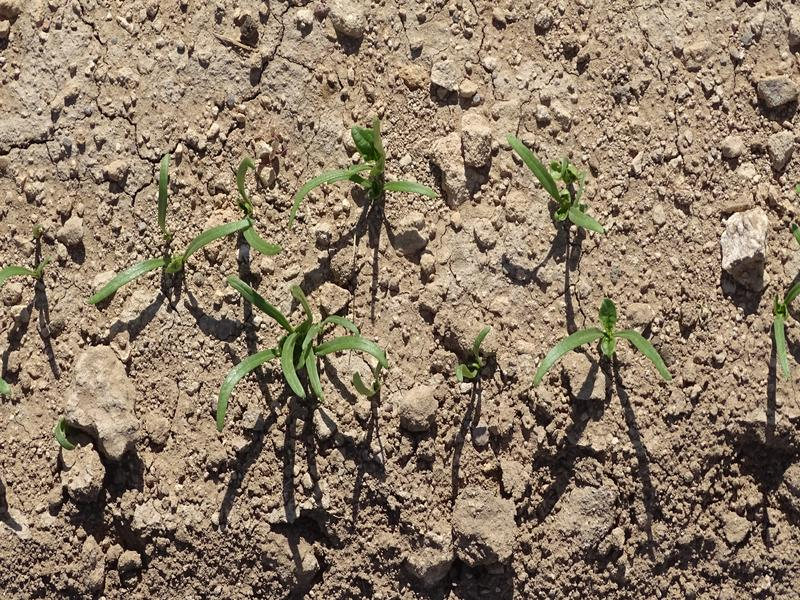Espinaca: (211, 272, 390, 414), (94, 172, 283, 269), (288, 130, 447, 215), (535, 297, 673, 388), (500, 134, 608, 237), (773, 282, 800, 371), (1, 253, 52, 281)
